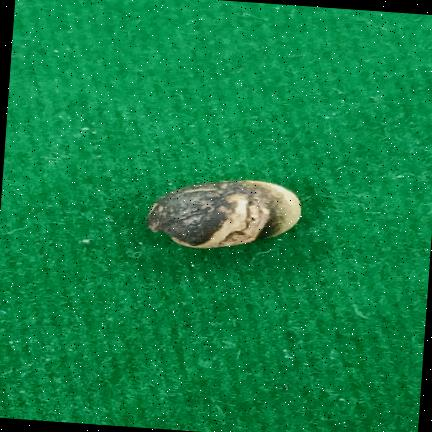partial-black: (147, 180, 301, 248)
